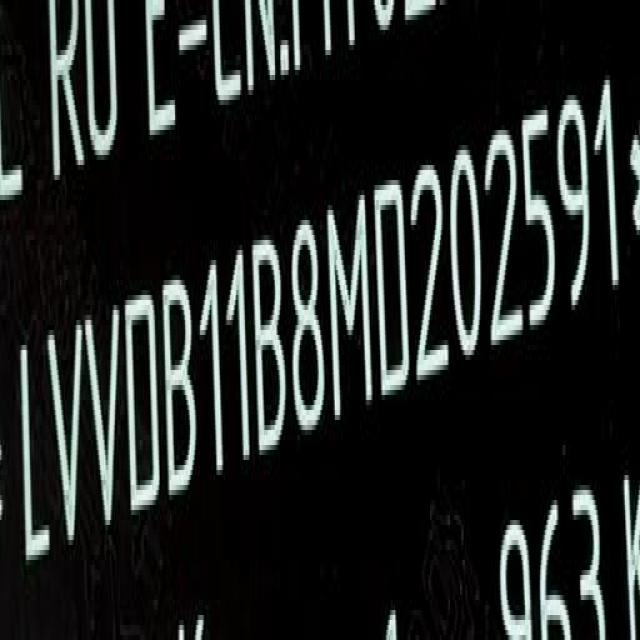0: (446, 148, 481, 366)
1: (596, 77, 622, 305), (227, 253, 252, 470), (202, 257, 225, 480)
2: (485, 119, 522, 349), (412, 162, 449, 380)
5: (522, 104, 556, 332)
8: (292, 216, 327, 435)
9: (556, 86, 592, 320)
B: (163, 274, 199, 492), (255, 233, 288, 452)
D: (126, 288, 163, 517), (377, 178, 414, 400)
L: (16, 336, 49, 573)
M: (328, 194, 376, 418)
V: (86, 301, 124, 542), (46, 316, 82, 560)
